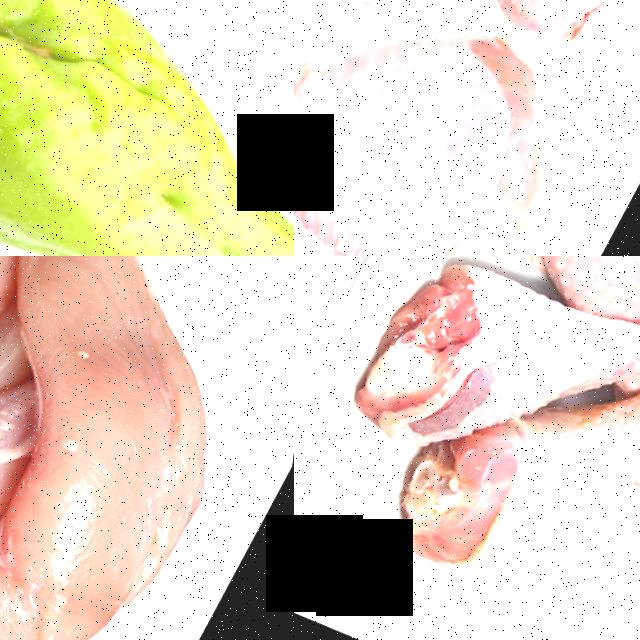chayote: (0, 0, 294, 256)
chicken breast: (0, 256, 294, 640)
chicken thigh: (334, 256, 640, 559), (294, 0, 636, 256), (390, 318, 640, 633), (294, 0, 640, 148)
